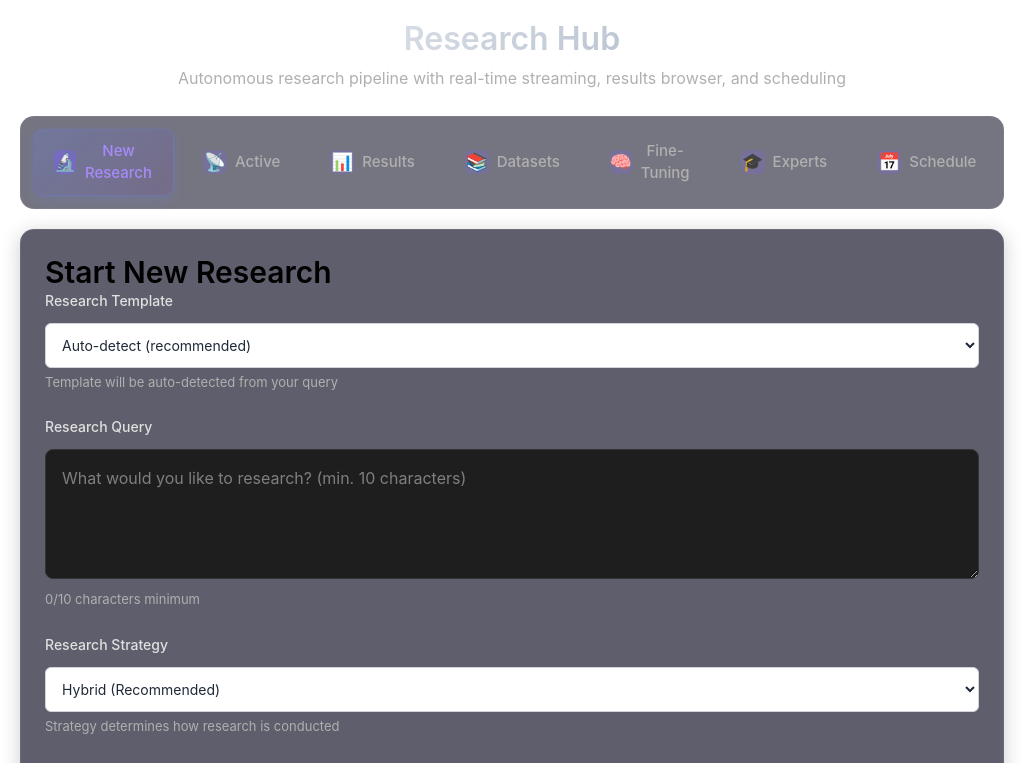
Scenario: ResearchHub Tab Content › renders Results tab content when clicked
Click the text "Results" at (389, 162), box [362, 151, 415, 174]
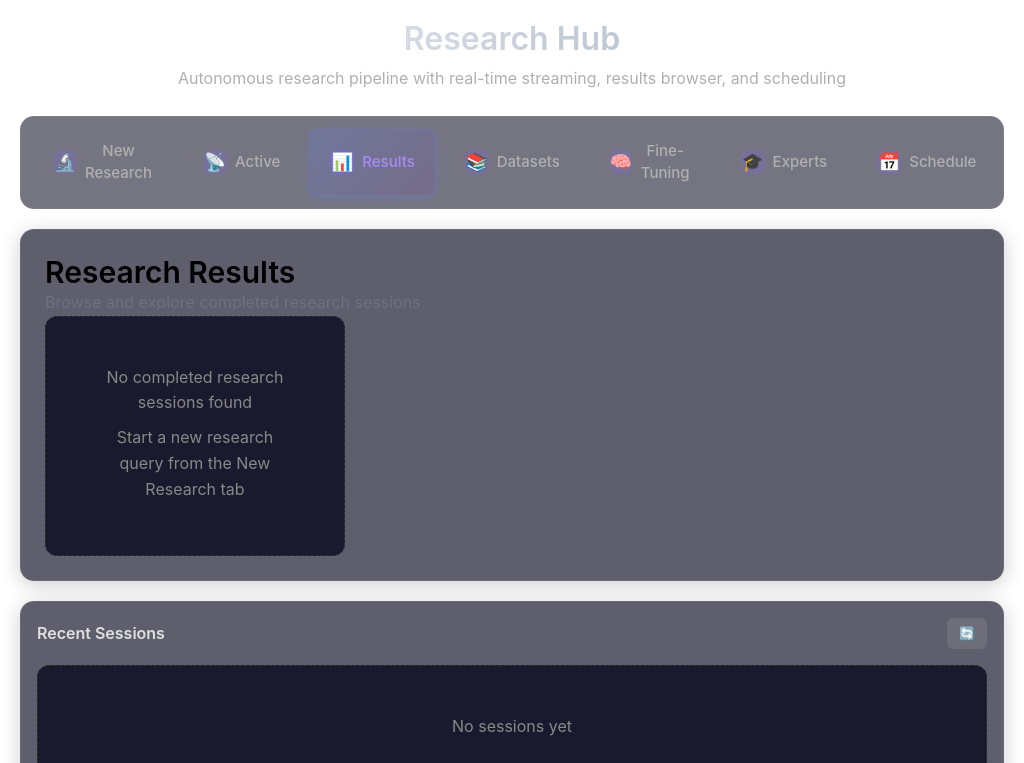
Result: the heading "Research Results" is shown at [45, 254, 295, 290]
